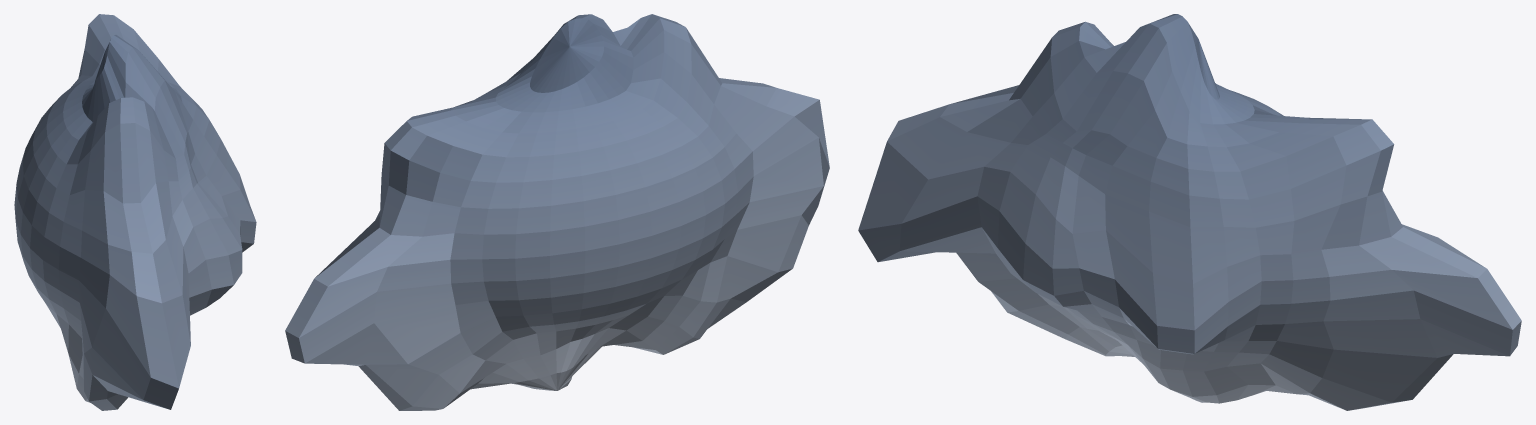
File: Mountain.fbx
The picture shows the model from 3 angles, left to right: view 1: azimuth 30°, elevation 25°; view 2: azimuth 150°, elevation 25°; view 3: azimuth 270°, elevation 25°; orthographic projection. The views are drawn at different scales.
Visible parts, largest first — view 1: Sphere.001; view 2: Sphere.001; view 3: Sphere.001.
Boxes of the visible parts, left/top/right/bottom form: Sphere.001: left=14, top=14, right=256, bottom=410; Sphere.001: left=285, top=14, right=829, bottom=410; Sphere.001: left=858, top=14, right=1521, bottom=410.
Size of the model in its own units: 856 by 1036 by 1620.
